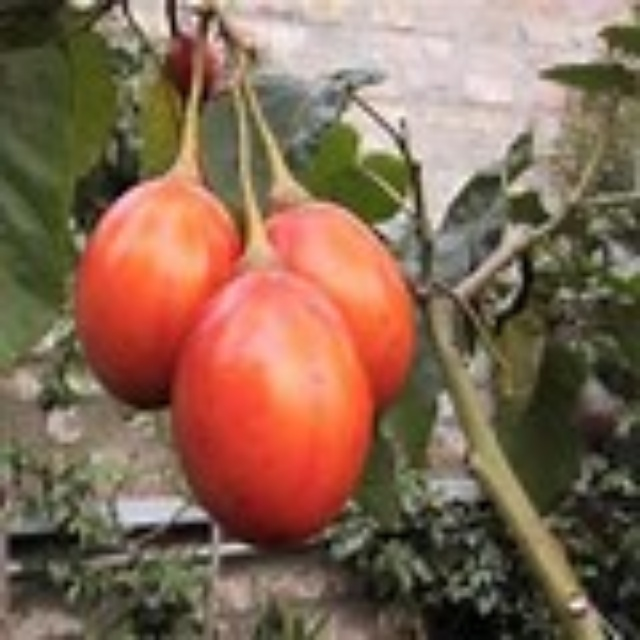tomato: (177, 273, 370, 538), (77, 163, 239, 410), (253, 199, 418, 403)
